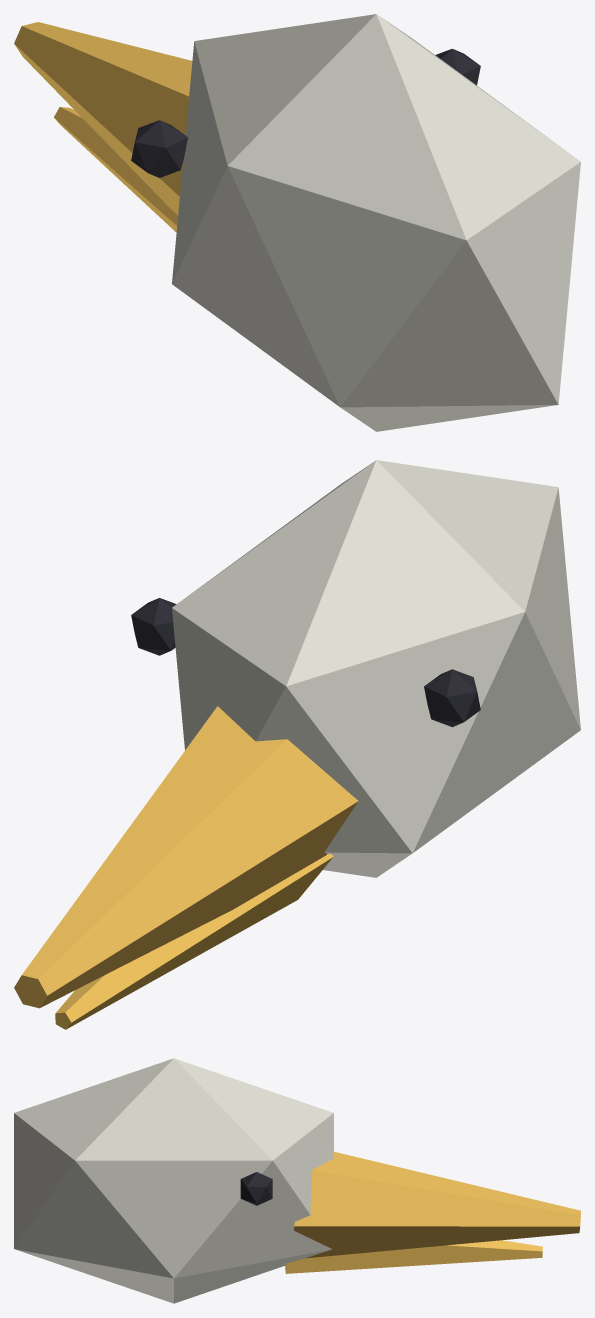
The model's file is AlbatrossHead.fbx.
The picture shows the model from 3 angles, top to bottom: view 1: azimuth 30°, elevation 25°; view 2: azimuth 150°, elevation 25°; view 3: azimuth 270°, elevation 25°; orthographic projection. The views are drawn at different scales.
Visible parts, largest first — view 1: Skull, UpperBeak, LowerBeak, Eye1, Eye-1; view 2: Skull, UpperBeak, LowerBeak, Eye1, Eye-1; view 3: Skull, UpperBeak, LowerBeak, Eye-1.
Part boxes in pixels (x1,y1,x2,y2): Skull: (172,14,580,431); UpperBeak: (14,22,192,215); LowerBeak: (54,107,177,232); Eye1: (131,120,187,177); Eye-1: (435,48,480,85); Skull: (172,460,580,877); UpperBeak: (14,706,358,1008); LowerBeak: (55,854,333,1029); Eye1: (424,669,480,727); Eye-1: (131,598,176,655); Skull: (14,1058,333,1303); UpperBeak: (294,1151,580,1258); LowerBeak: (285,1240,542,1273); Eye-1: (240,1172,272,1205).
Bounding box in the file's own units: 0.3087 × 0.36 × 0.7537.
